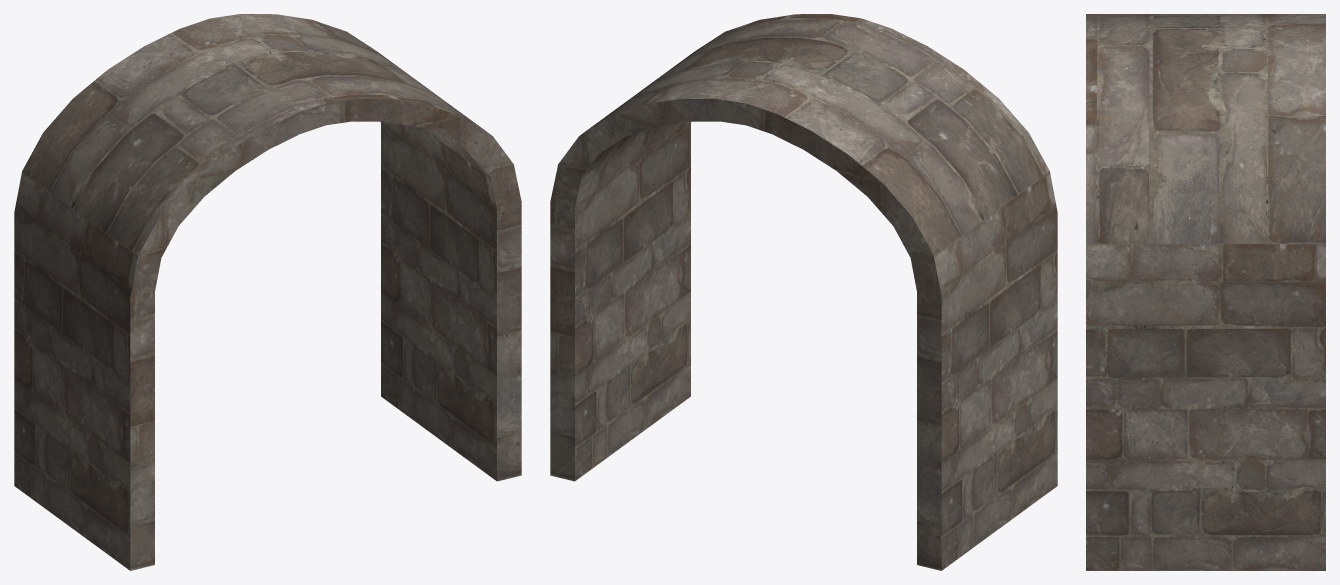
File: SM_StoneArch_01a.fbx
3 renders of one model, left to right at view 1: azimuth 30°, elevation 25°; view 2: azimuth 150°, elevation 25°; view 3: azimuth 270°, elevation 25°, orthographic. The views are drawn at different scales.
Parts seen in each view (by area): view 1: SM_StoneArch_01a; view 2: SM_StoneArch_01a; view 3: SM_StoneArch_01a.
Part boxes in pixels (bbox=[...]): SM_StoneArch_01a: bbox=[14, 14, 521, 570]; SM_StoneArch_01a: bbox=[550, 14, 1057, 570]; SM_StoneArch_01a: bbox=[1086, 14, 1325, 570].
Bounding box in the file's own units: 974 × 999 × 500.
1 material, 1 textured.
